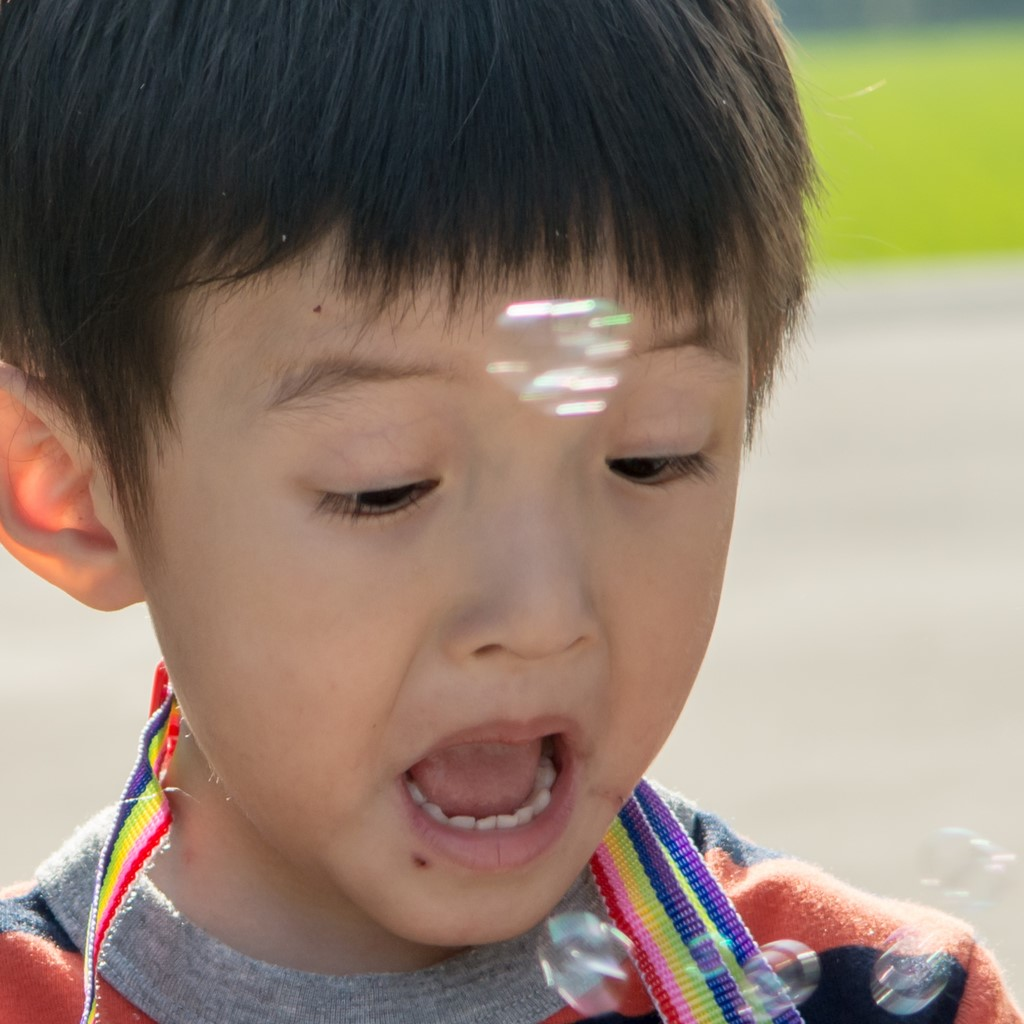sin_mascara: (125, 124, 749, 963)
